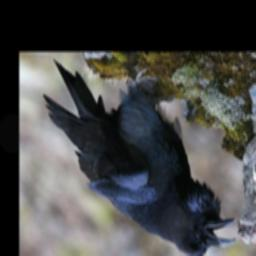Crow: (43, 57, 237, 256)
